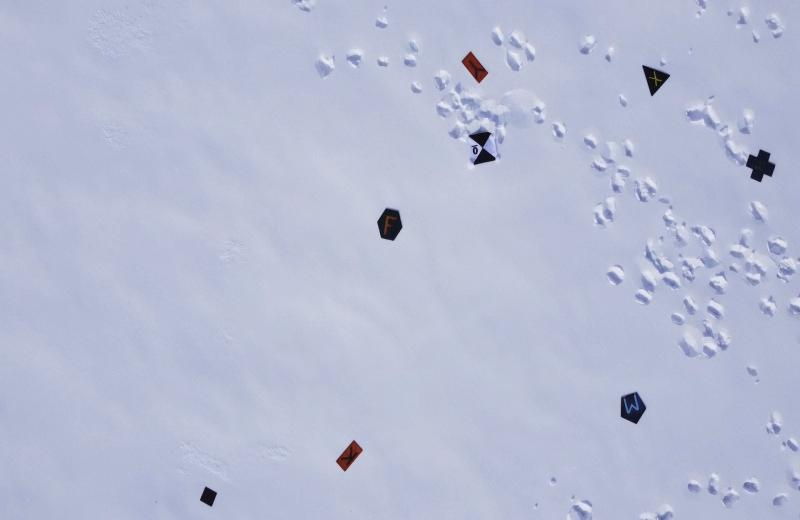Cross: (745, 146, 779, 185)
Hexagon: (376, 206, 405, 242)
Pentagon: (616, 390, 650, 426)
Rectangle: (334, 437, 365, 474), (458, 52, 490, 87)
Square: (200, 483, 220, 510)
Triangle: (636, 60, 672, 99)
